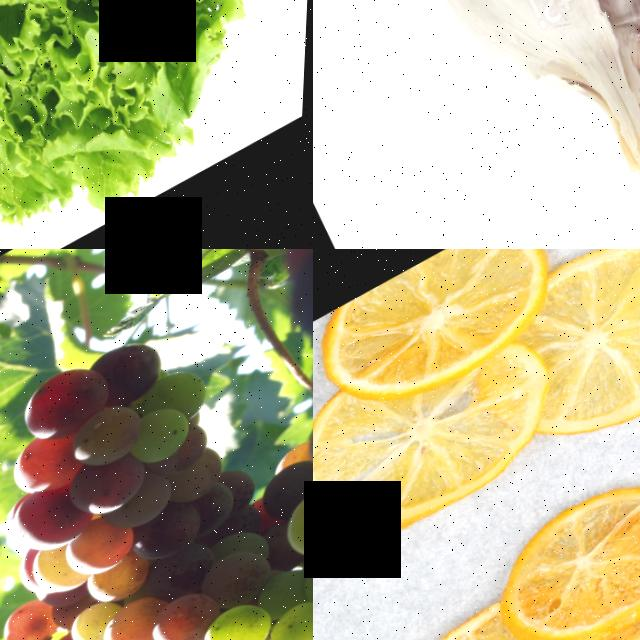garlic: (362, 0, 640, 196)
grapes: (0, 320, 313, 640)
lemon: (313, 339, 571, 579), (313, 249, 573, 432), (475, 457, 640, 640), (513, 249, 640, 451)
lettuce: (0, 0, 313, 249)
